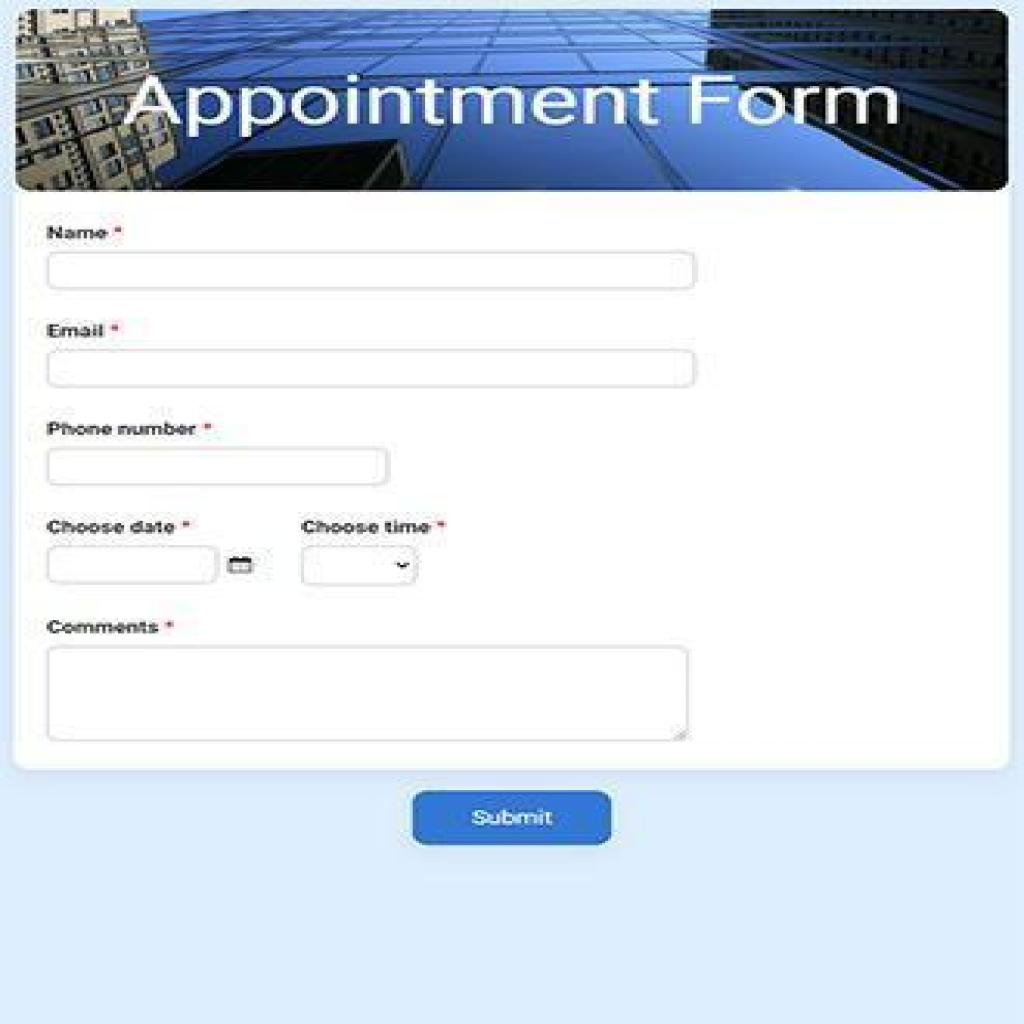button: (410, 788, 614, 847)
dropdown: (301, 545, 416, 585)
input: (47, 644, 692, 742), (47, 347, 701, 386), (50, 252, 692, 291), (44, 446, 394, 488), (44, 545, 220, 583)
label: (286, 512, 462, 541), (40, 413, 220, 441), (34, 609, 193, 640), (44, 512, 198, 538), (44, 313, 128, 340), (40, 220, 128, 242)
